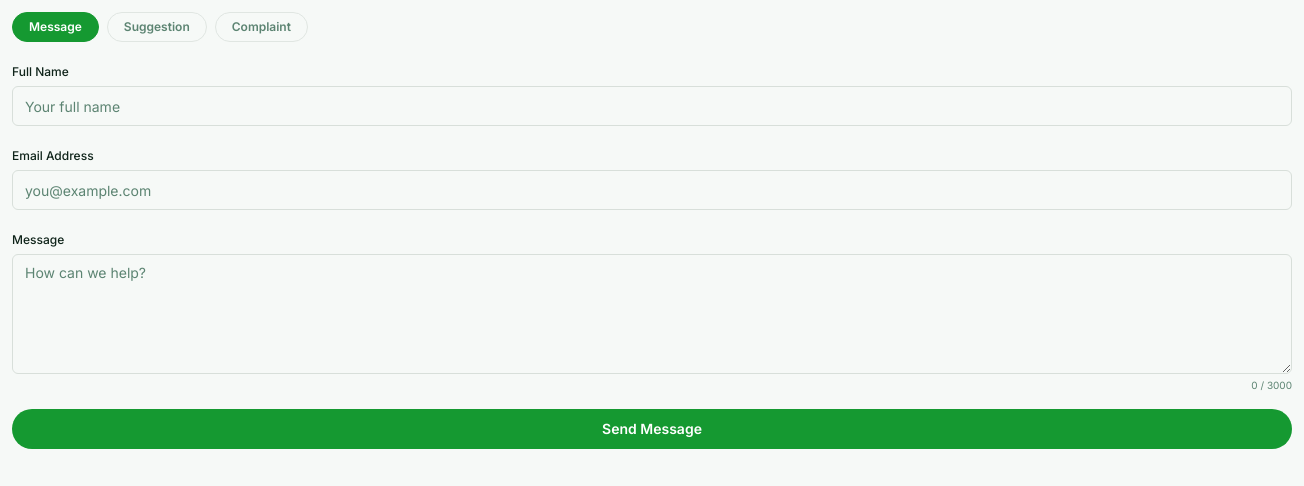
Test: FeedbackForm › switching to Complaint turns anonymous on and hides the identity fields
This screenshot has width=1304, height=486.
Expected: the field with placeholder "Your full name" is shown, [12,86,1292,126]
Click the tab "Complaint": (261, 27) [215,12,308,42]
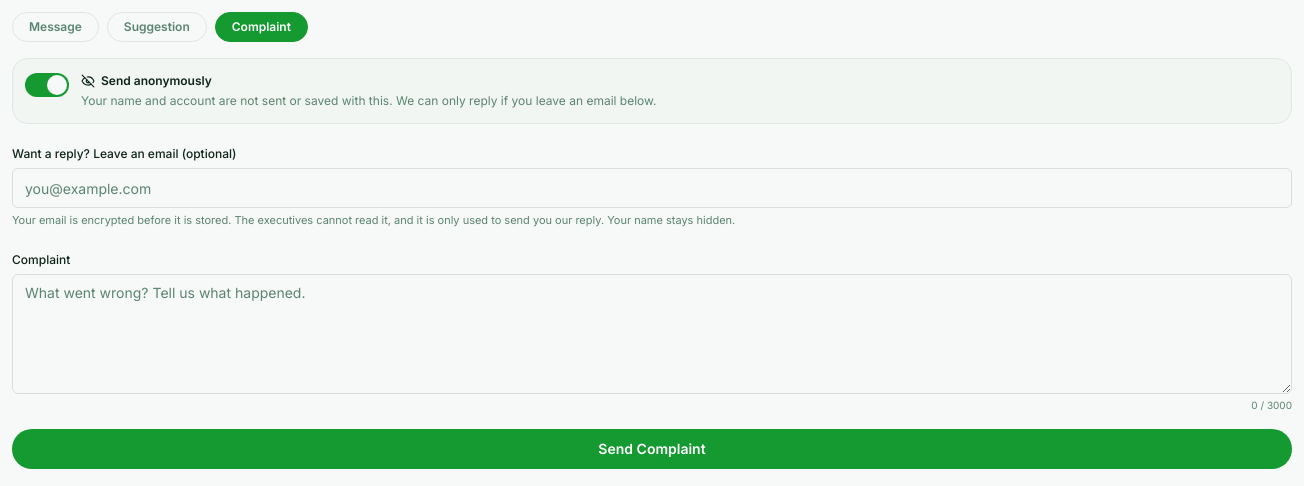
Expected: the field with placeholder "Your full name" is not shown
Result: the button "Send Complaint" is shown at [12,429,1292,469]
